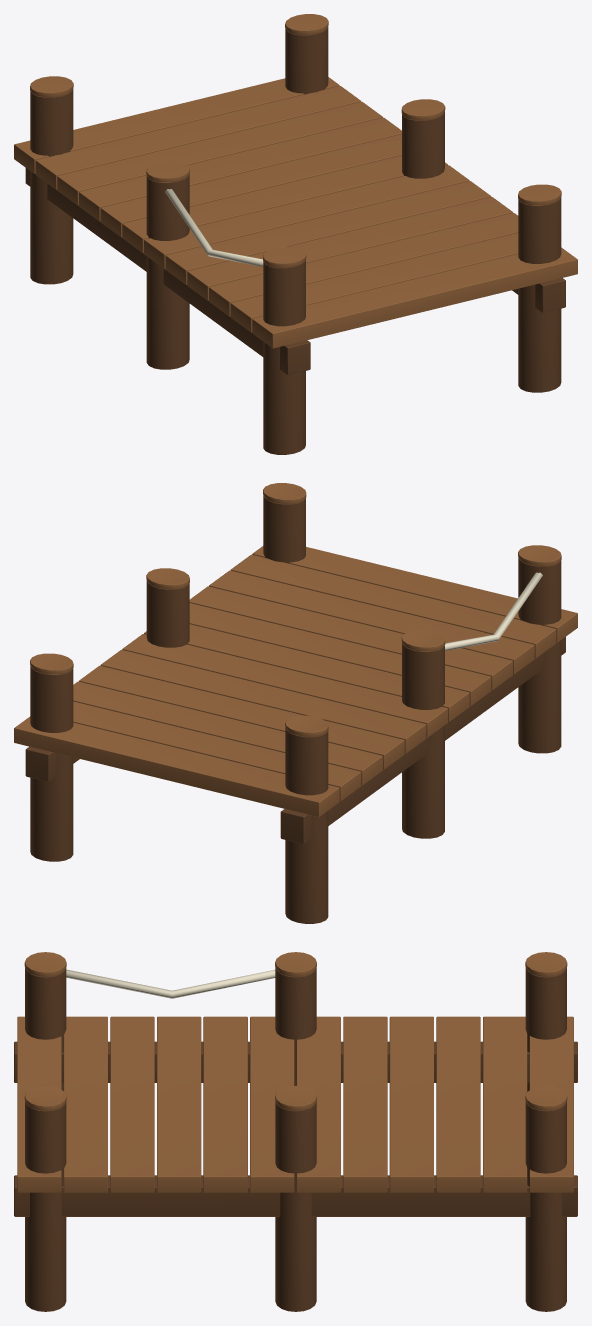
Rendered from S075_wooden_dock_rebuilt.glb.
3 renders of one model, top to bottom at view 1: azimuth 30°, elevation 25°; view 2: azimuth 150°, elevation 25°; view 3: azimuth 270°, elevation 25°, orthographic. The views are drawn at different scales.
Visible parts, largest first — view 1: Oiled_warm_oak.001, Oak_end_and_edge.001, Warm_ivory.001; view 2: Oiled_warm_oak.001, Oak_end_and_edge.001, Warm_ivory.001; view 3: Oiled_warm_oak.001, Oak_end_and_edge.001, Warm_ivory.001.
Part boxes in pixels (x1,y1,x2,y2): Oiled_warm_oak.001: (14, 14, 577, 348); Oak_end_and_edge.001: (25, 26, 565, 454); Warm_ivory.001: (165, 189, 263, 266); Oiled_warm_oak.001: (14, 483, 577, 817); Oak_end_and_edge.001: (25, 496, 565, 923); Warm_ivory.001: (444, 572, 542, 650); Oiled_warm_oak.001: (17, 952, 573, 1192); Oak_end_and_edge.001: (14, 968, 577, 1311); Warm_ivory.001: (66, 969, 275, 998).
Bounding box in the file's own units: 1.95 × 1.17 × 2.9.
